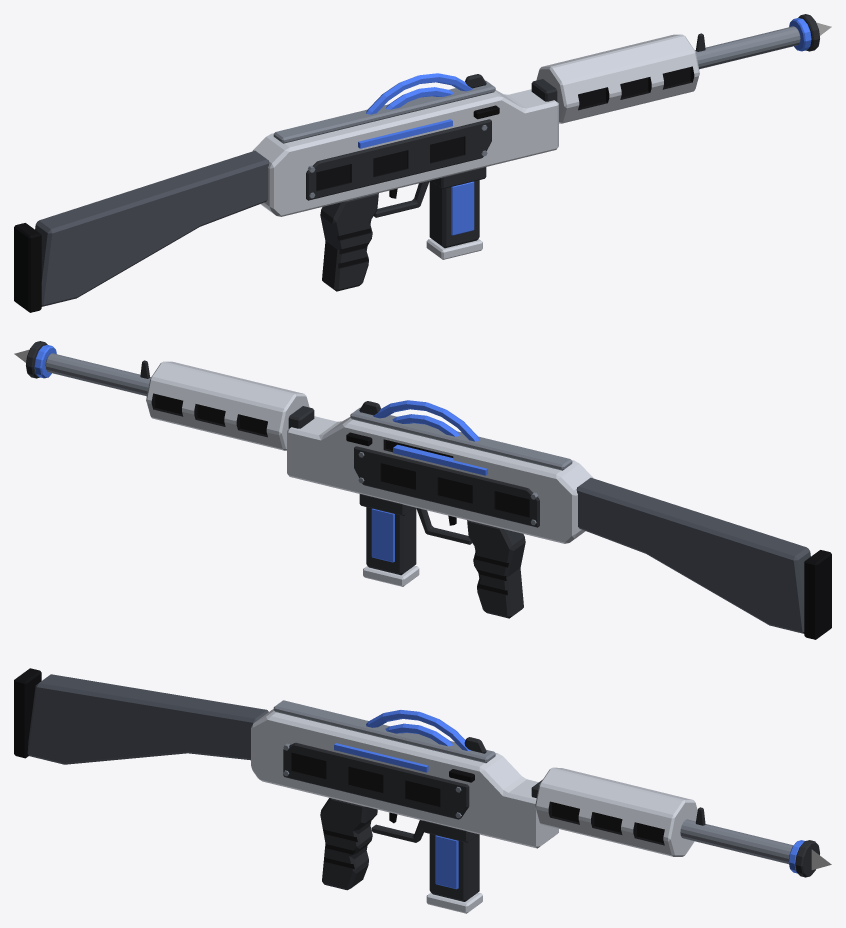
The model's file is ion_rifle42.obj.
3 views of the same model, one above another, from view 1: azimuth 30°, elevation 25°; view 2: azimuth 150°, elevation 25°; view 3: azimuth 330°, elevation 25° (orthographic).
Parts seen in each view (by area): view 1: body, barrel, mag; view 2: body, barrel, mag; view 3: body, barrel, mag.
Part boxes in pixels (<box>): body: <box>14,73,558,312</box>; barrel: <box>536,14,819,123</box>; mag: <box>426,180,482,259</box>; body: <box>287,400,831,639</box>; barrel: <box>26,341,309,450</box>; mag: <box>363,507,419,586</box>; body: <box>14,668,558,890</box>; barrel: <box>535,767,819,877</box>; mag: <box>426,834,482,913</box>.
Size of the model in its own units: 0.8546 by 0.1917 by 0.0561.
